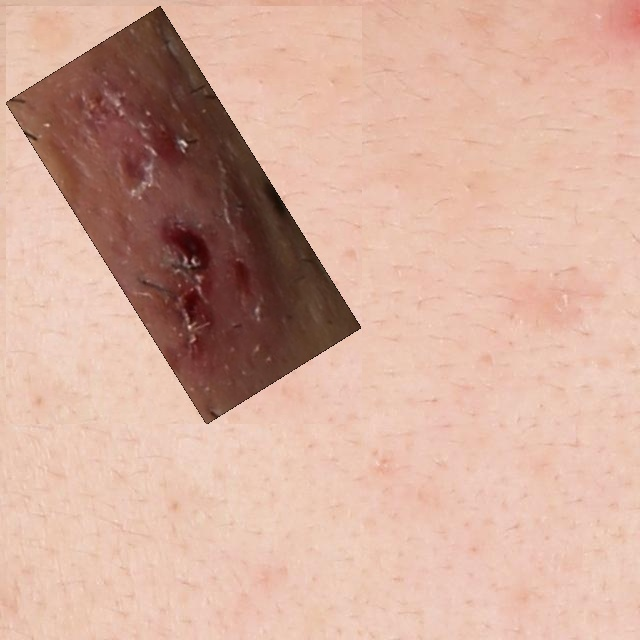nodule: (17, 17, 350, 413)
